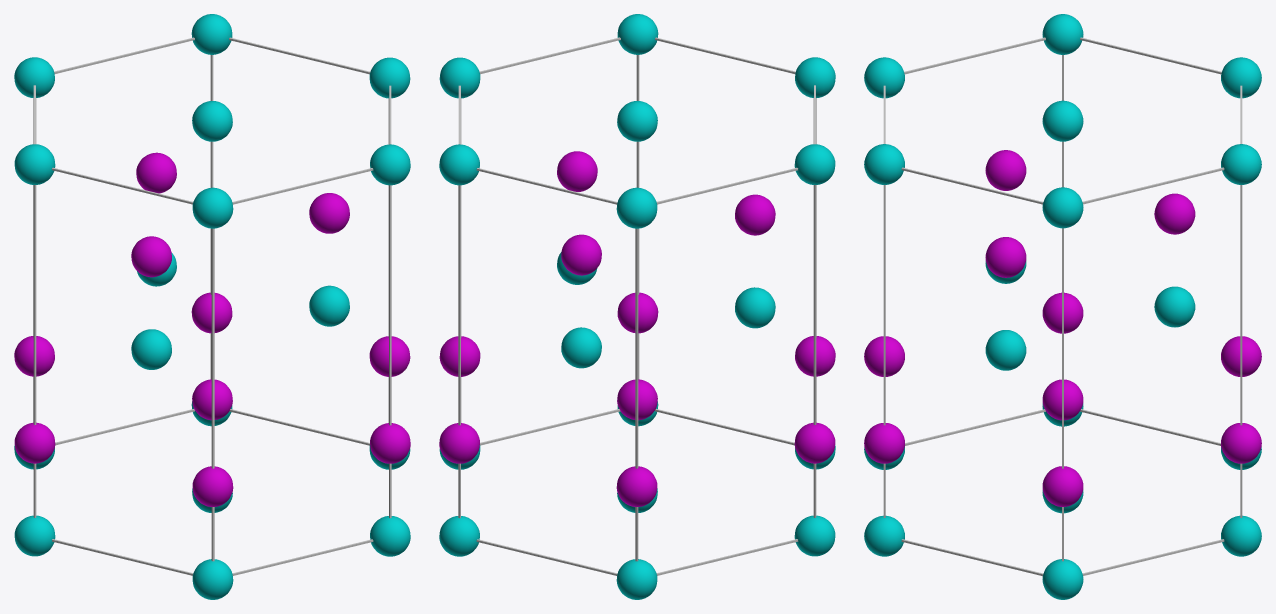
Rendered from wurtzita_centrado.glb.
3 renders of one model, left to right at view 1: azimuth 30°, elevation 25°; view 2: azimuth 150°, elevation 25°; view 3: azimuth 270°, elevation 25°, orthographic.
Visible parts, largest first — view 1: arista21; view 2: arista21; view 3: arista21.
Boxes of the visible parts, x1,y1,x2,y2 form: arista21: (14, 14, 410, 599); arista21: (439, 14, 835, 599); arista21: (864, 14, 1261, 599).
Bounding box in the file's own units: 2.2 × 2.2 × 1.94.
